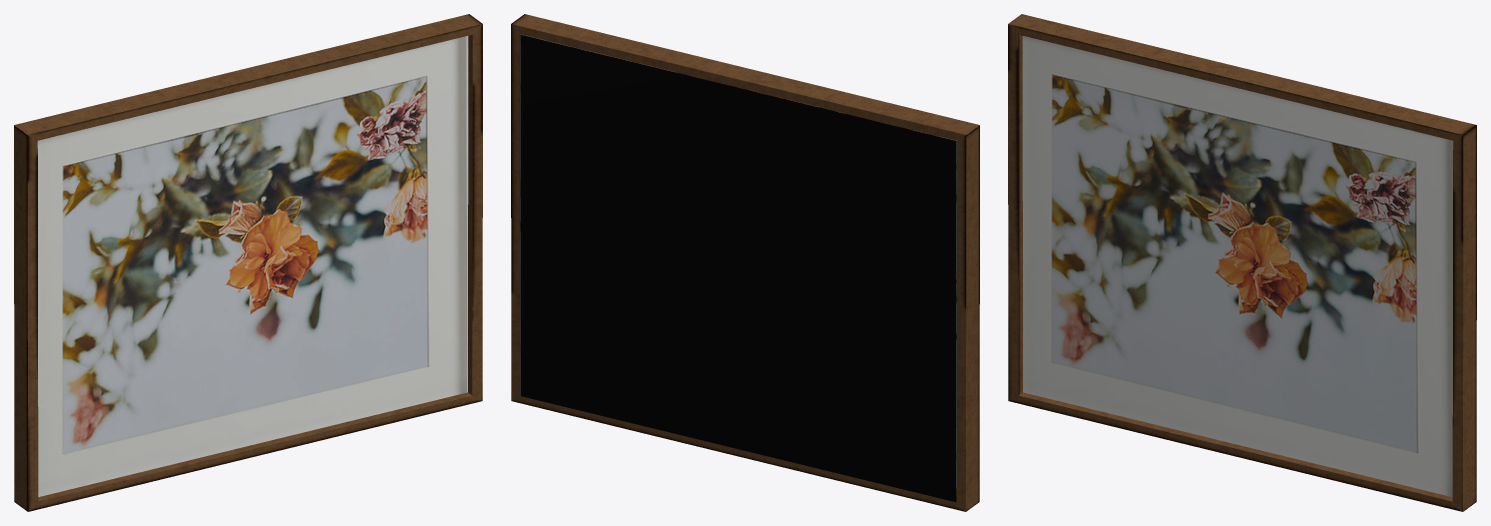
File: poster_4.glb
The picture shows the model from 3 angles, left to right: view 1: azimuth 30°, elevation 25°; view 2: azimuth 150°, elevation 25°; view 3: azimuth 330°, elevation 25°; orthographic projection.
Visible parts, largest first — view 1: BrushedAntiqueBronzeWallPictureFrame_BrushedAntiqueBronzeWal; view 2: BrushedAntiqueBronzeWallPictureFrame_BrushedAntiqueBronzeWal; view 3: BrushedAntiqueBronzeWallPictureFrame_BrushedAntiqueBronzeWal.
Part boxes in pixels (x1=…): BrushedAntiqueBronzeWallPictureFrame_BrushedAntiqueBronzeWal: x1=14, y1=14, x2=482, y2=511; BrushedAntiqueBronzeWallPictureFrame_BrushedAntiqueBronzeWal: x1=511, y1=14, x2=979, y2=511; BrushedAntiqueBronzeWallPictureFrame_BrushedAntiqueBronzeWal: x1=1008, y1=14, x2=1476, y2=511.
Size of the model in its own units: 0.729 by 0.5768 by 0.0381.
Materials: 1 (1 with a texture image).
